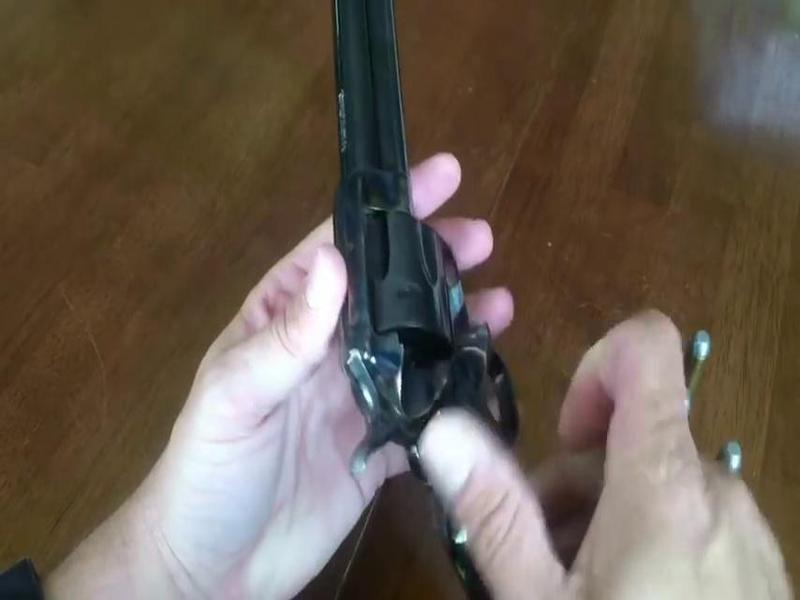Revolver: (286, 16, 554, 568)
